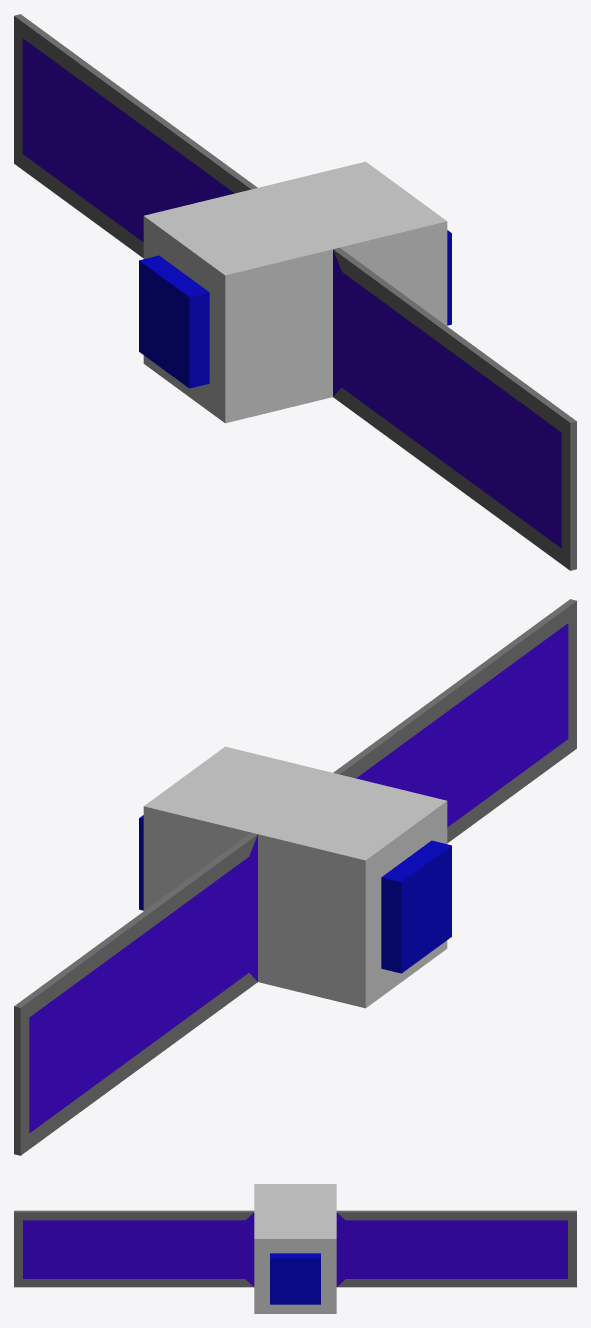
The model's file is Solar_Small.obj.
The picture shows the model from 3 angles, top to bottom: view 1: azimuth 30°, elevation 25°; view 2: azimuth 150°, elevation 25°; view 3: azimuth 270°, elevation 25°; orthographic projection. The views are drawn at different scales.
Parts seen in each view (by area): view 1: Solar_Small_Cube.001; view 2: Solar_Small_Cube.001; view 3: Solar_Small_Cube.001.
Part boxes in pixels (x1=…): Solar_Small_Cube.001: x1=14, y1=14, x2=576, y2=570; Solar_Small_Cube.001: x1=14, y1=599, x2=576, y2=1155; Solar_Small_Cube.001: x1=14, y1=1184, x2=576, y2=1313.
Size of the model in its own units: 1.63 by 0.877 by 5.98.
